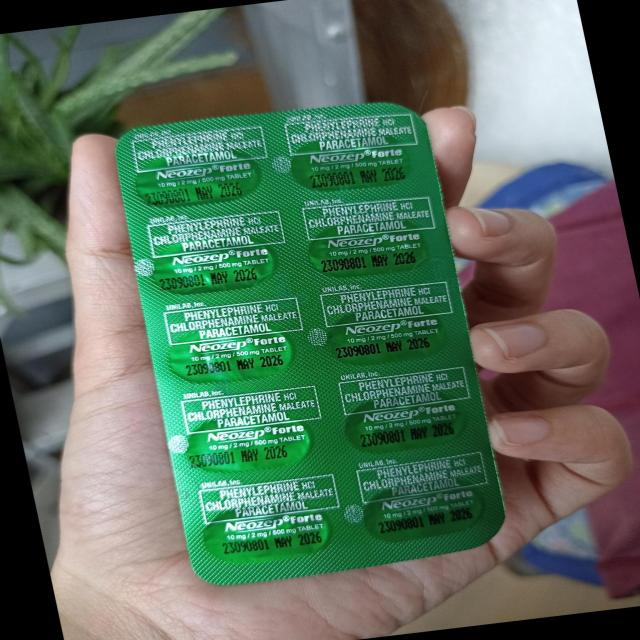Neozep_Strip: (100, 92, 520, 598)
